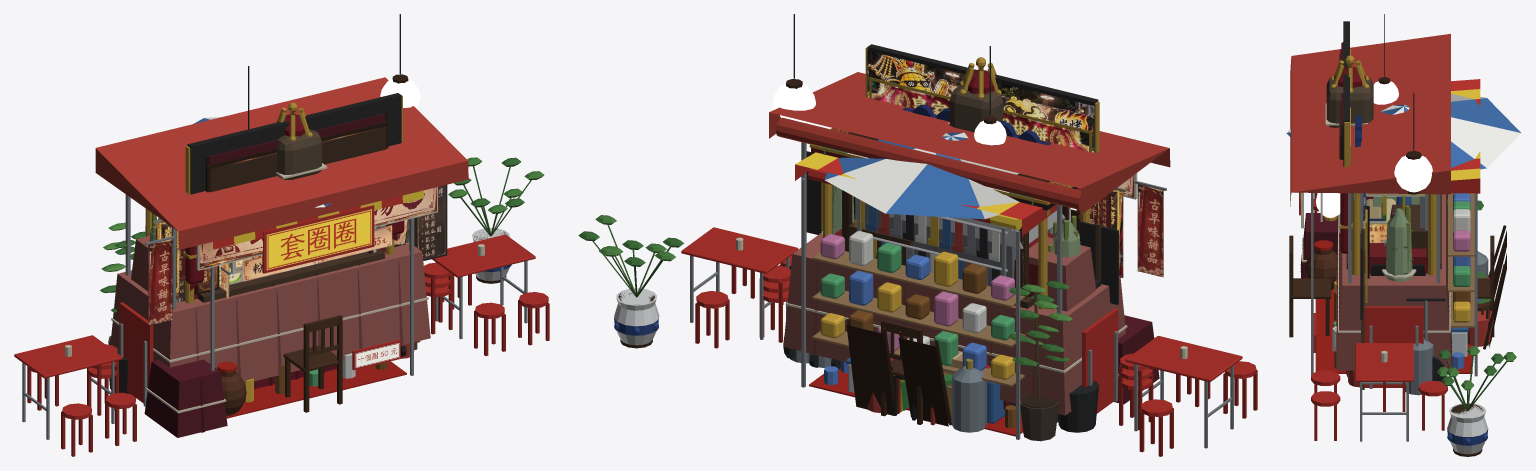
The model's file is tingzhou_stalls.glb.
The picture shows the model from 3 angles, left to right: view 1: azimuth 30°, elevation 25°; view 2: azimuth 150°, elevation 25°; view 3: azimuth 270°, elevation 25°; orthographic projection. The views are drawn at different scales.
Visible parts, largest first — view 1: STALL_jelly_closed_vc, STALL_jelly_open_aw, STALL_jelly_open_vc, STALL_jelly_open_at, STALL_stinky_closed_vc, STALL_milk_closed_vc, STALL_ring_open_vc, STALL_ring_open_at, STALL_corn_closed_vc, LIMAO_TABLE_closed_vc, LIMAO_TABLE_open_vc, STALL_pepper_closed_vc (+8 smaller); view 2: STALL_jelly_closed_vc, STALL_ring_open_vc, STALL_jelly_open_vc, STALL_jelly_open_aw, LIMAO_TABLE_closed_vc, STALL_socks_open_aw, STALL_corn_open_at, STALL_pepper_closed_vc, STALL_socks_open_vc, STALL_ring_closed_vc, STALL_pepper_open_vc, STALL_pepper_open_at (+14 smaller); view 3: STALL_jelly_open_aw, STALL_jelly_closed_vc, STALL_jelly_open_vc, STALL_ring_open_vc, LIMAO_TABLE_closed_vc, STALL_pepper_closed_vc, STALL_socks_open_aw, STALL_pepper_open_vc, LIMAO_TABLE_open_vc, STALL_cane_closed_vc, LIMAO_SHOPLIGHT_gl, STALL_ring_open_aw (+14 smaller).
Boxes of the visible parts, bbox=[...] form: STALL_jelly_closed_vc: bbox=[87, 194, 452, 415]; STALL_jelly_open_aw: bbox=[95, 77, 468, 249]; STALL_jelly_open_vc: bbox=[14, 185, 549, 456]; STALL_jelly_open_at: bbox=[148, 185, 445, 325]; STALL_stinky_closed_vc: bbox=[144, 113, 385, 437]; STALL_milk_closed_vc: bbox=[197, 127, 386, 302]; STALL_ring_open_vc: bbox=[145, 205, 414, 418]; STALL_ring_open_at: bbox=[266, 209, 399, 367]; STALL_corn_closed_vc: bbox=[187, 93, 401, 194]; LIMAO_TABLE_closed_vc: bbox=[100, 157, 544, 344]; LIMAO_TABLE_open_vc: bbox=[108, 315, 342, 412]; STALL_pepper_closed_vc: bbox=[145, 129, 404, 303]; STALL_jelly_closed_vc: bbox=[759, 117, 1153, 430]; STALL_ring_open_vc: bbox=[809, 231, 1025, 436]; STALL_jelly_open_vc: bbox=[681, 142, 1257, 456]; STALL_jelly_open_aw: bbox=[769, 72, 1170, 214]; LIMAO_TABLE_closed_vc: bbox=[578, 215, 1072, 441]; STALL_socks_open_aw: bbox=[824, 132, 1019, 219]; STALL_corn_open_at: bbox=[867, 50, 1119, 276]; STALL_pepper_closed_vc: bbox=[811, 85, 1089, 309]; STALL_socks_open_vc: bbox=[854, 198, 1007, 374]; STALL_ring_closed_vc: bbox=[801, 168, 1021, 439]; STALL_pepper_open_vc: bbox=[790, 57, 1126, 425]; STALL_pepper_open_at: bbox=[871, 81, 1123, 277]; STALL_jelly_open_aw: bbox=[1290, 33, 1450, 206]; STALL_jelly_closed_vc: bbox=[1335, 193, 1453, 411]; STALL_jelly_open_vc: bbox=[1301, 192, 1493, 441]; STALL_ring_open_vc: bbox=[1299, 192, 1474, 387]; LIMAO_TABLE_closed_vc: bbox=[1437, 200, 1516, 456]; STALL_pepper_closed_vc: bbox=[1325, 77, 1436, 275]; STALL_socks_open_aw: bbox=[1286, 93, 1521, 169]; STALL_pepper_open_vc: bbox=[1330, 49, 1489, 395]; LIMAO_TABLE_open_vc: bbox=[1289, 235, 1494, 337]; STALL_cane_closed_vc: bbox=[1373, 196, 1419, 281]; LIMAO_SHOPLIGHT_gl: bbox=[1373, 81, 1432, 192]; STALL_ring_open_aw: bbox=[1300, 79, 1480, 203].
Bounding box in the file's own units: 6.25 × 3.4 × 2.4.
4 materials, 1 textured.
